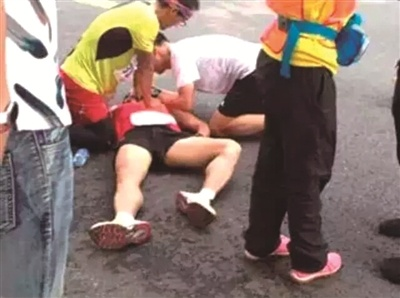falling: (84, 69, 242, 256)
